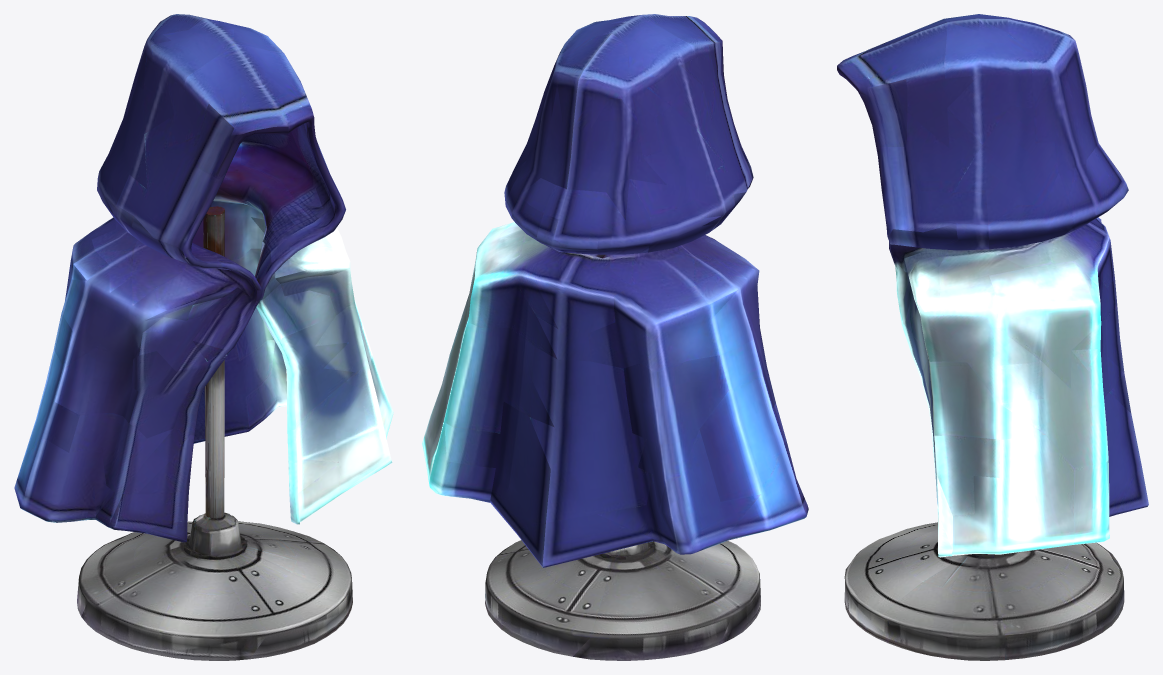
Rendered from camouflage.glb.
3 views of the same model, side by side, from view 1: azimuth 30°, elevation 25°; view 2: azimuth 150°, elevation 25°; view 3: azimuth 270°, elevation 25° (orthographic).
Size of the model in its own units: 0.6797 by 1 by 0.4854.
Materials: 1 (1 with a texture image).
